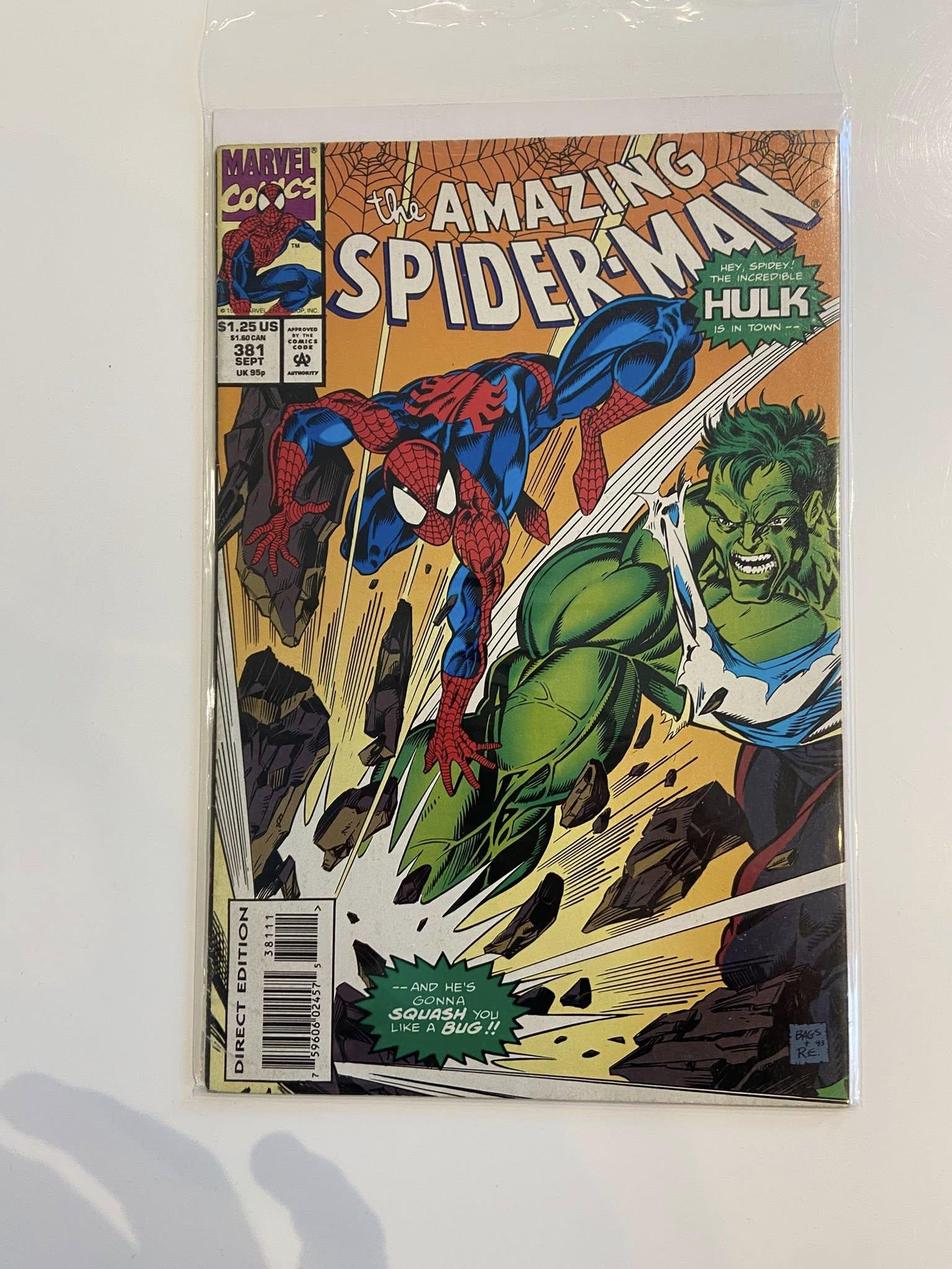comic: (206, 128, 854, 1100)
